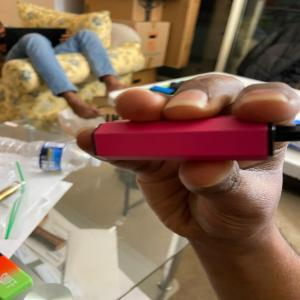Blume-E-Ciggirate: (89, 114, 300, 164)
